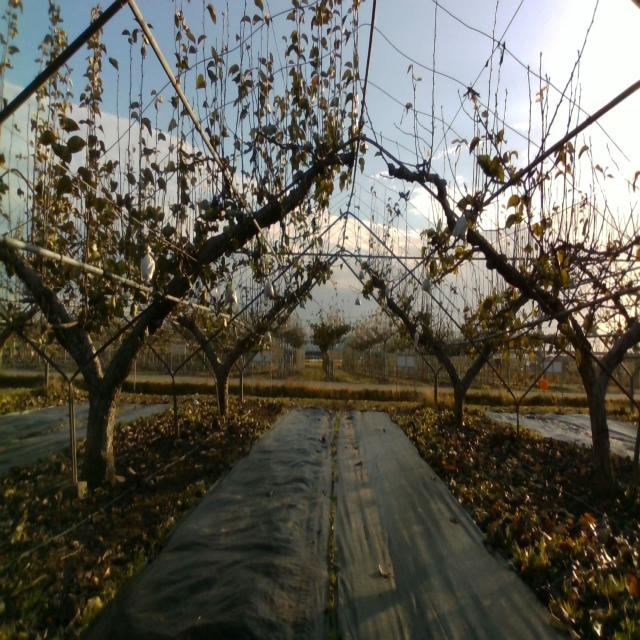pearbags: (140, 242, 156, 280), (452, 211, 470, 242), (224, 282, 238, 304), (264, 279, 277, 302)
